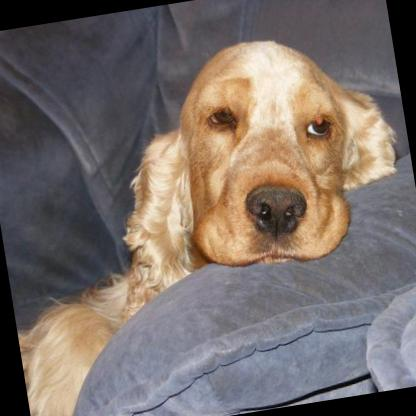cocker_spaniel: (0, 21, 416, 416)
